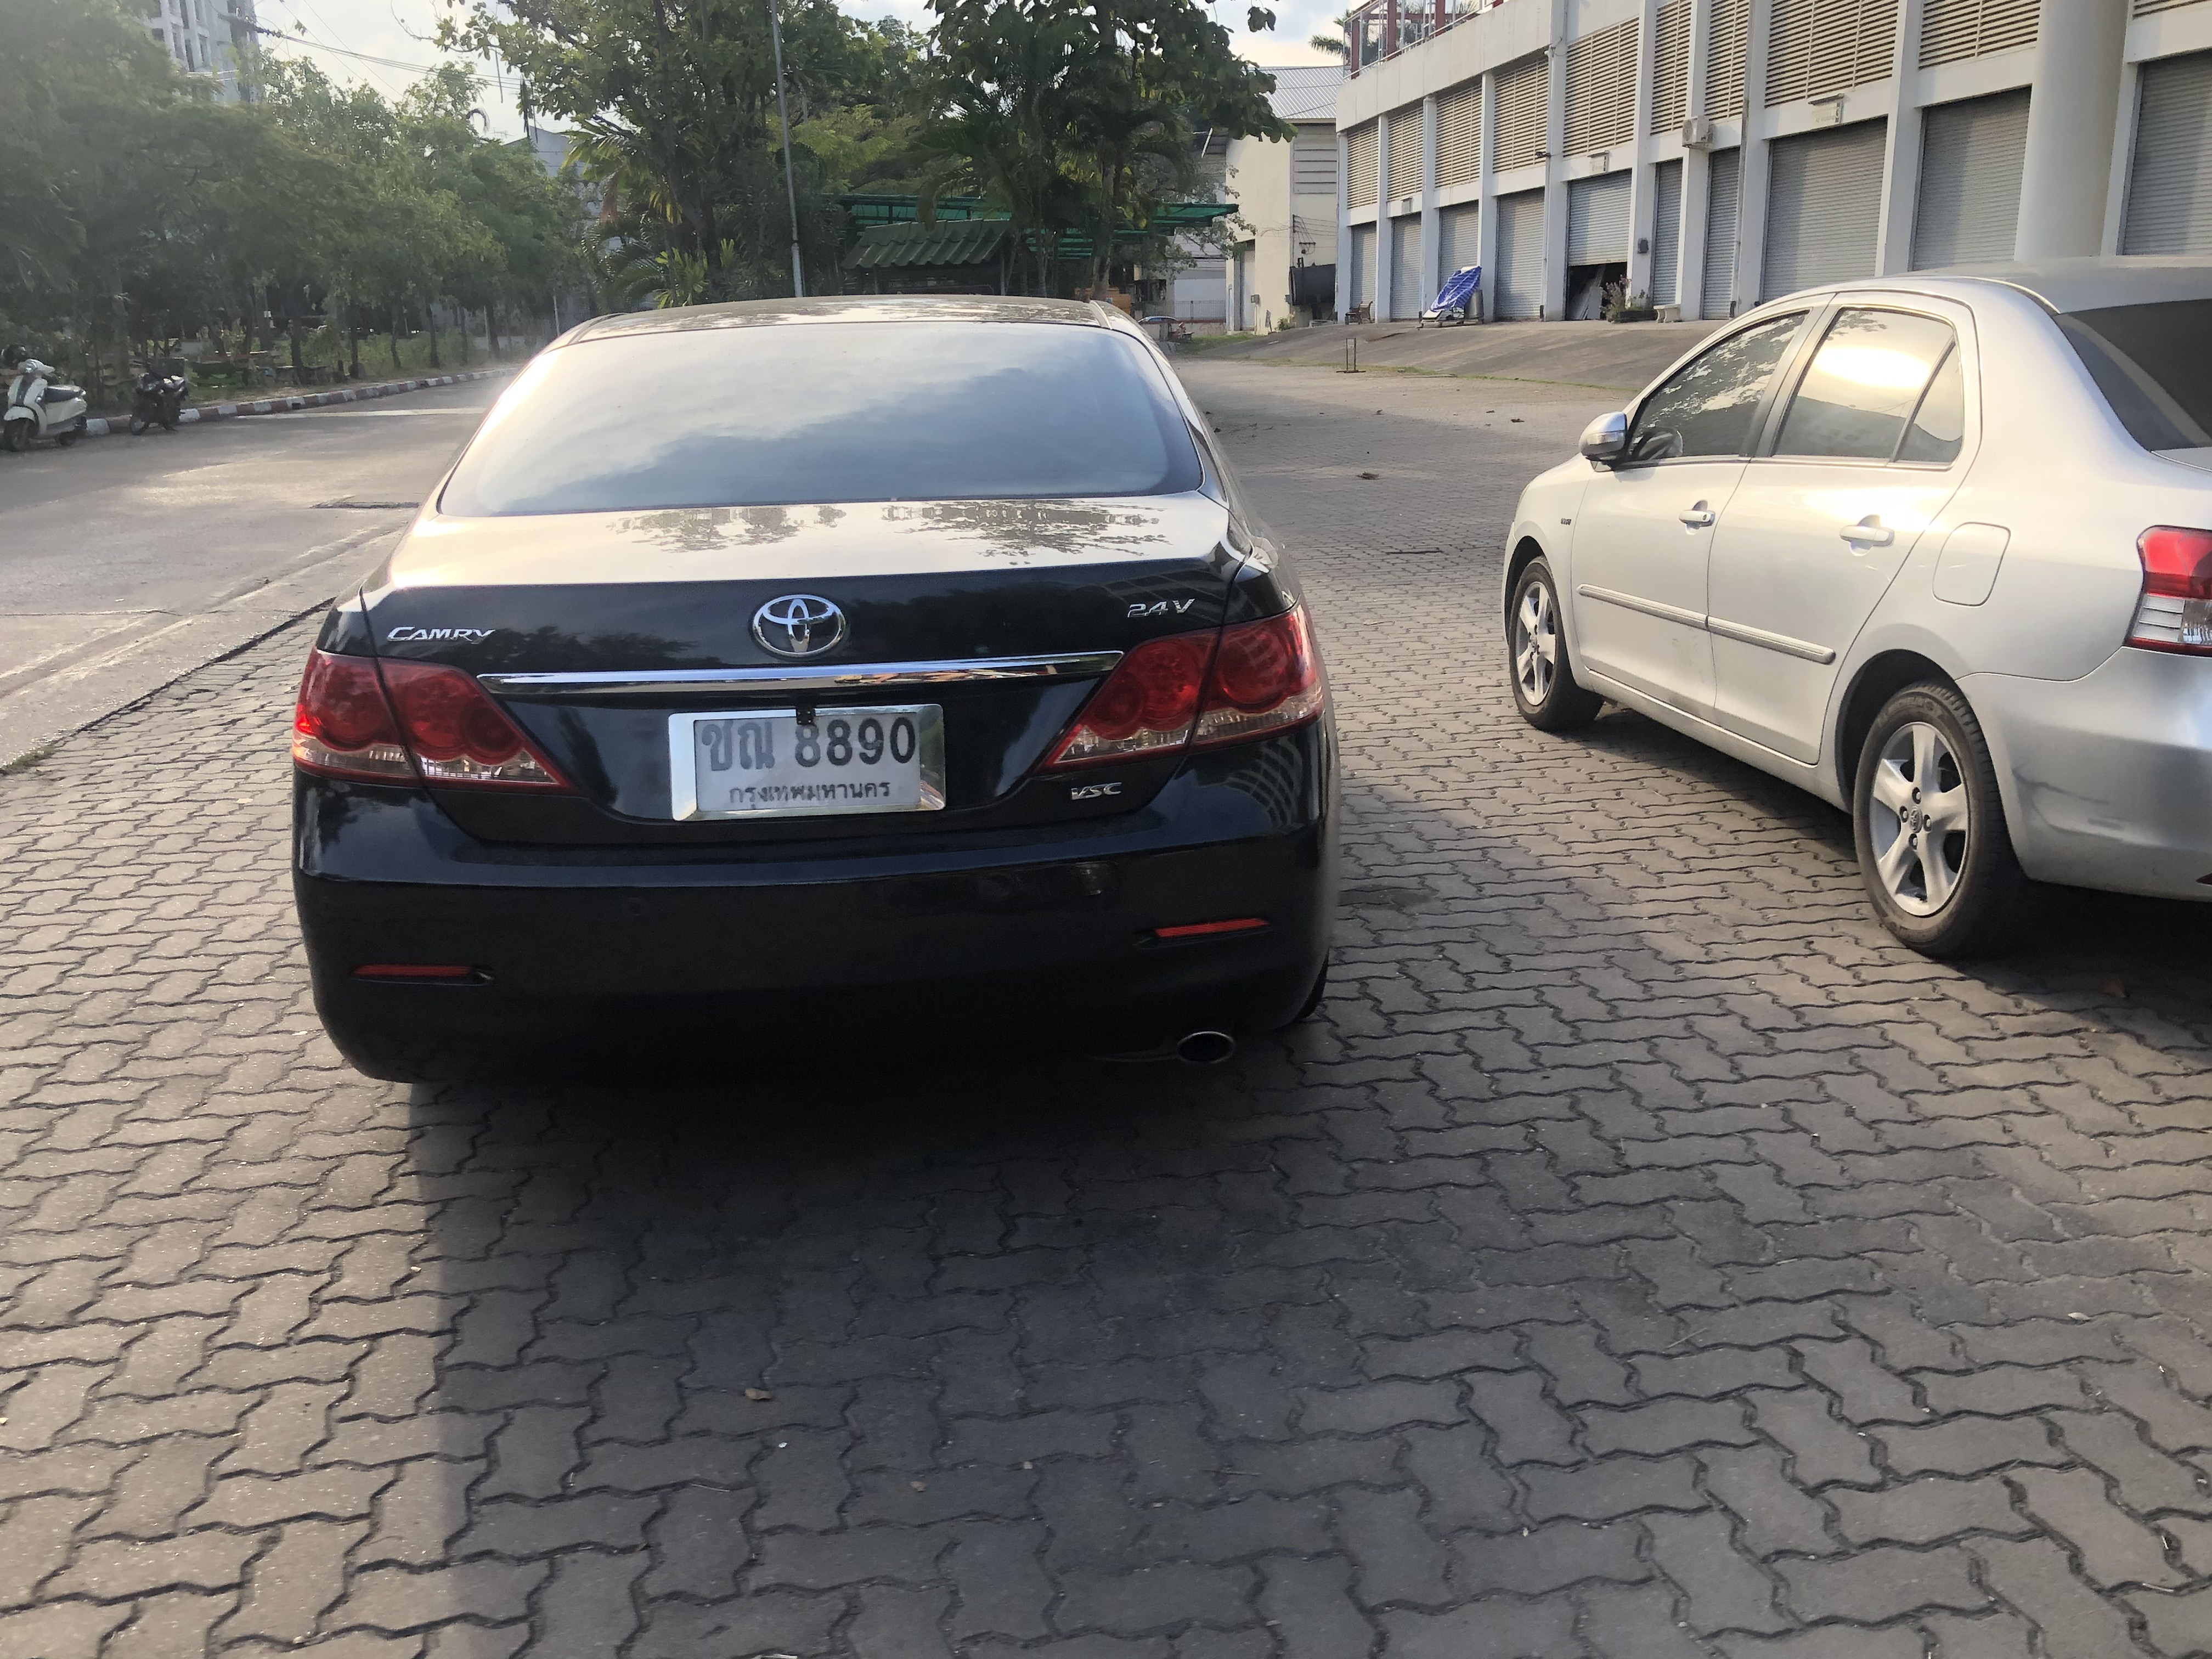in: (690, 720, 920, 800)
out: (660, 702, 949, 814)
